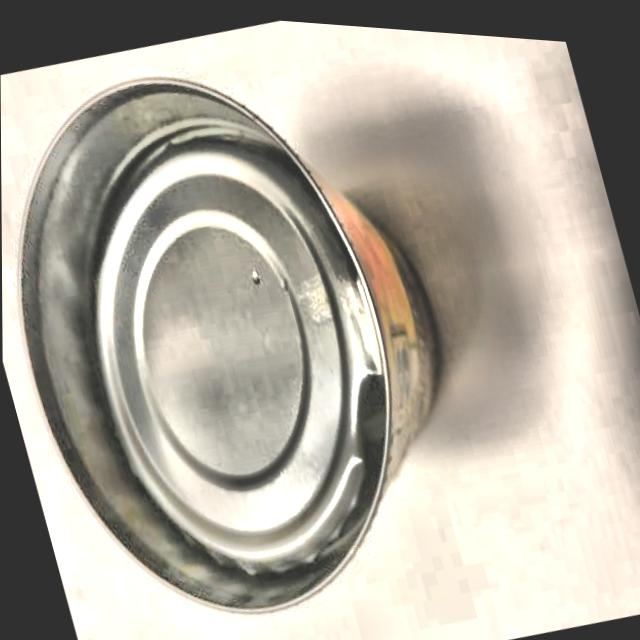Cans: (0, 0, 528, 640)
